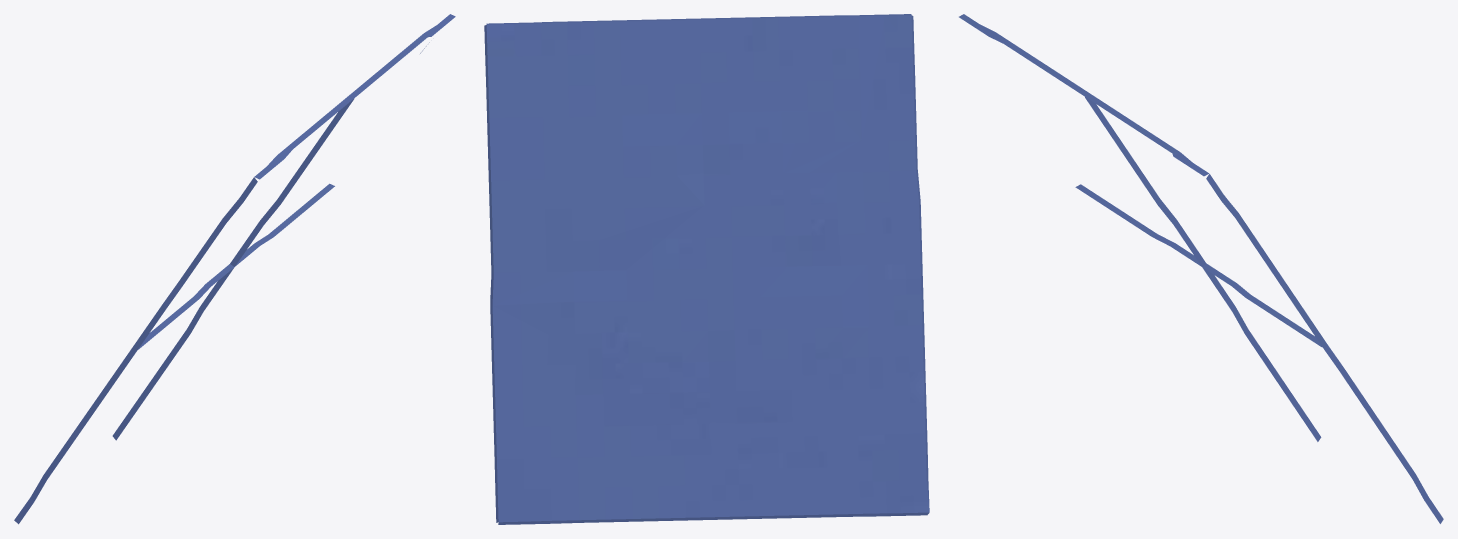
3 renders of one model, left to right at view 1: azimuth 30°, elevation 25°; view 2: azimuth 150°, elevation 25°; view 3: azimuth 270°, elevation 25°, orthographic. The views are drawn at different scales.
Size of the model in its own units: 158947 by 135303 by 143587.
1 material, 1 textured.
